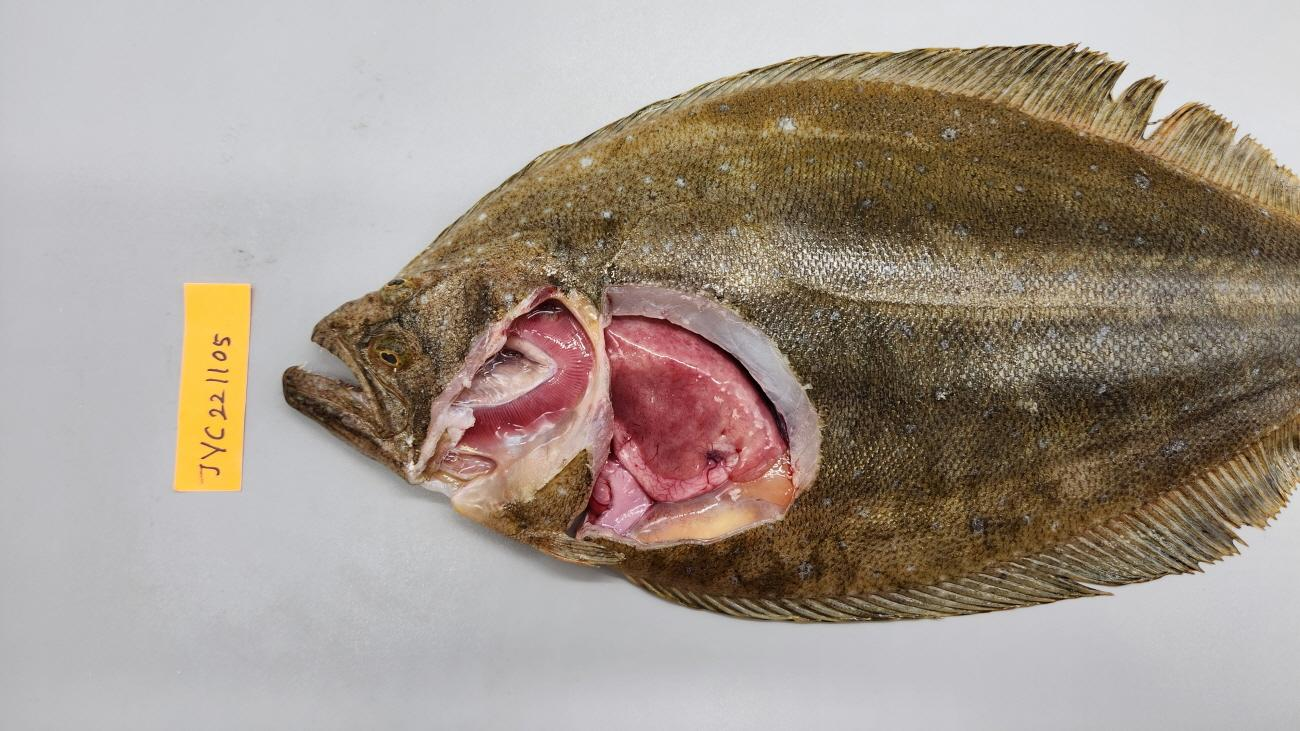VILII: (733, 434, 743, 449)
